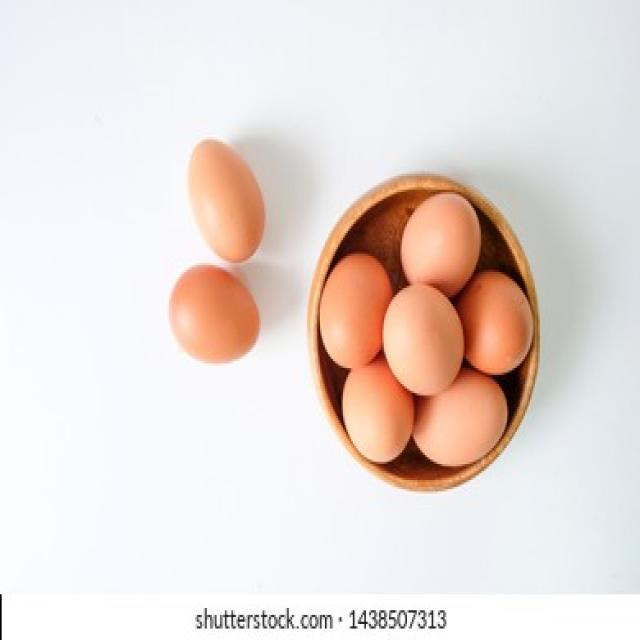Brown Egg: (187, 130, 266, 263), (163, 269, 262, 367), (412, 370, 508, 465), (397, 192, 488, 289), (455, 267, 535, 371), (383, 283, 462, 387), (343, 352, 411, 468), (317, 253, 394, 353)
